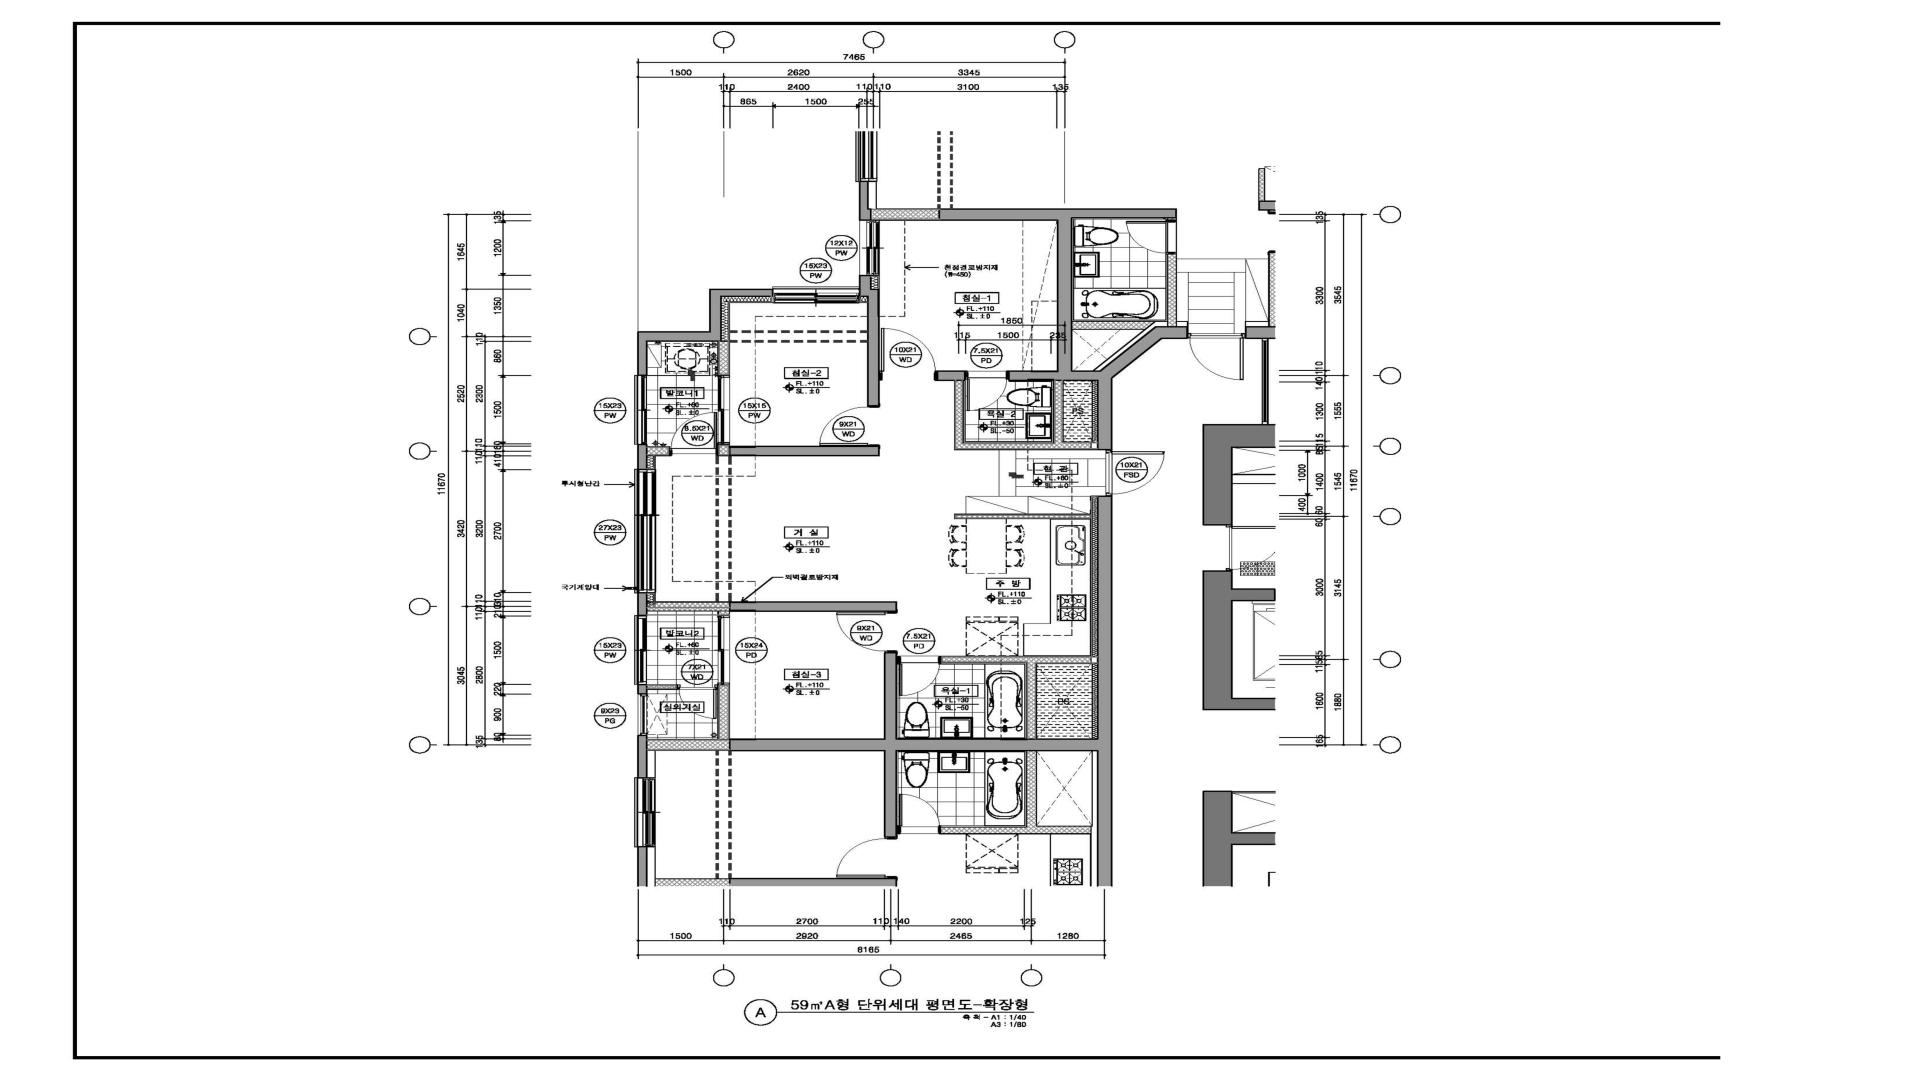door: (880, 327, 938, 381), (1105, 450, 1167, 496), (836, 612, 897, 653), (820, 405, 880, 446), (670, 411, 717, 456), (897, 655, 940, 696), (965, 371, 1009, 411), (678, 684, 717, 719)
wall: (729, 496, 1113, 752), (939, 208, 1113, 450), (940, 655, 1097, 738), (936, 371, 1097, 451), (637, 289, 773, 376), (647, 684, 731, 752), (647, 601, 897, 616), (858, 276, 880, 405), (717, 444, 880, 456), (953, 513, 1092, 520), (872, 208, 939, 220), (717, 342, 731, 376), (637, 444, 647, 469), (647, 446, 670, 456), (637, 593, 647, 616), (647, 684, 678, 690), (858, 208, 872, 220), (637, 736, 647, 750), (637, 684, 647, 694)
window: (634, 469, 657, 593), (773, 286, 860, 303), (858, 220, 881, 276), (634, 615, 647, 684), (634, 375, 647, 444), (717, 616, 731, 684), (717, 376, 731, 444), (637, 694, 647, 736)
